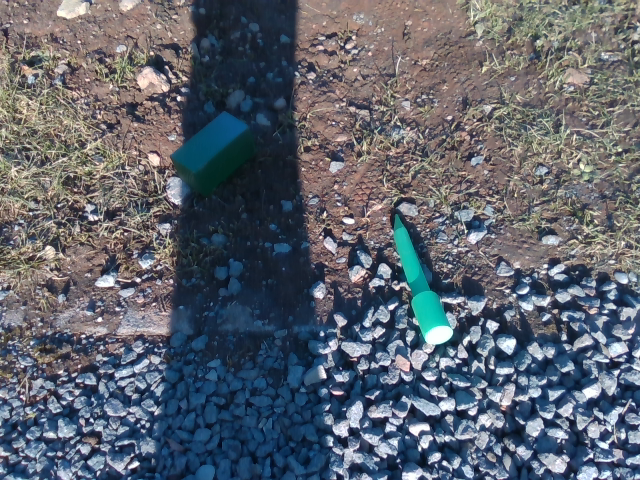Probe: (386, 212, 455, 348)
